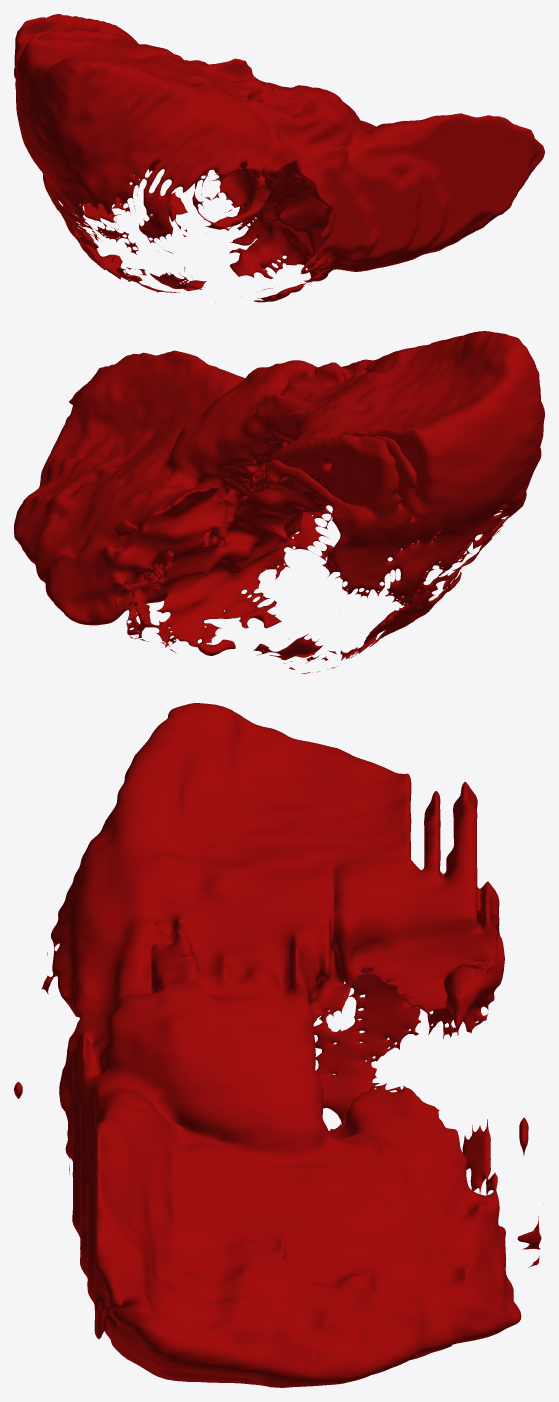
The model's file is liver_blended.glb.
3 views of the same model, one above another, from view 1: azimuth 30°, elevation 25°; view 2: azimuth 150°, elevation 25°; view 3: azimuth 270°, elevation 25° (orthographic). The views are drawn at different scales.
Parts seen in each view (by area): view 1: Liver; view 2: Liver; view 3: Liver.
Part boxes in pixels (x1,y1,x2,y2): Liver: [14, 14, 544, 302]; Liver: [14, 331, 544, 673]; Liver: [14, 703, 541, 1387].
Size of the model in its own units: 281 by 170 by 181.
